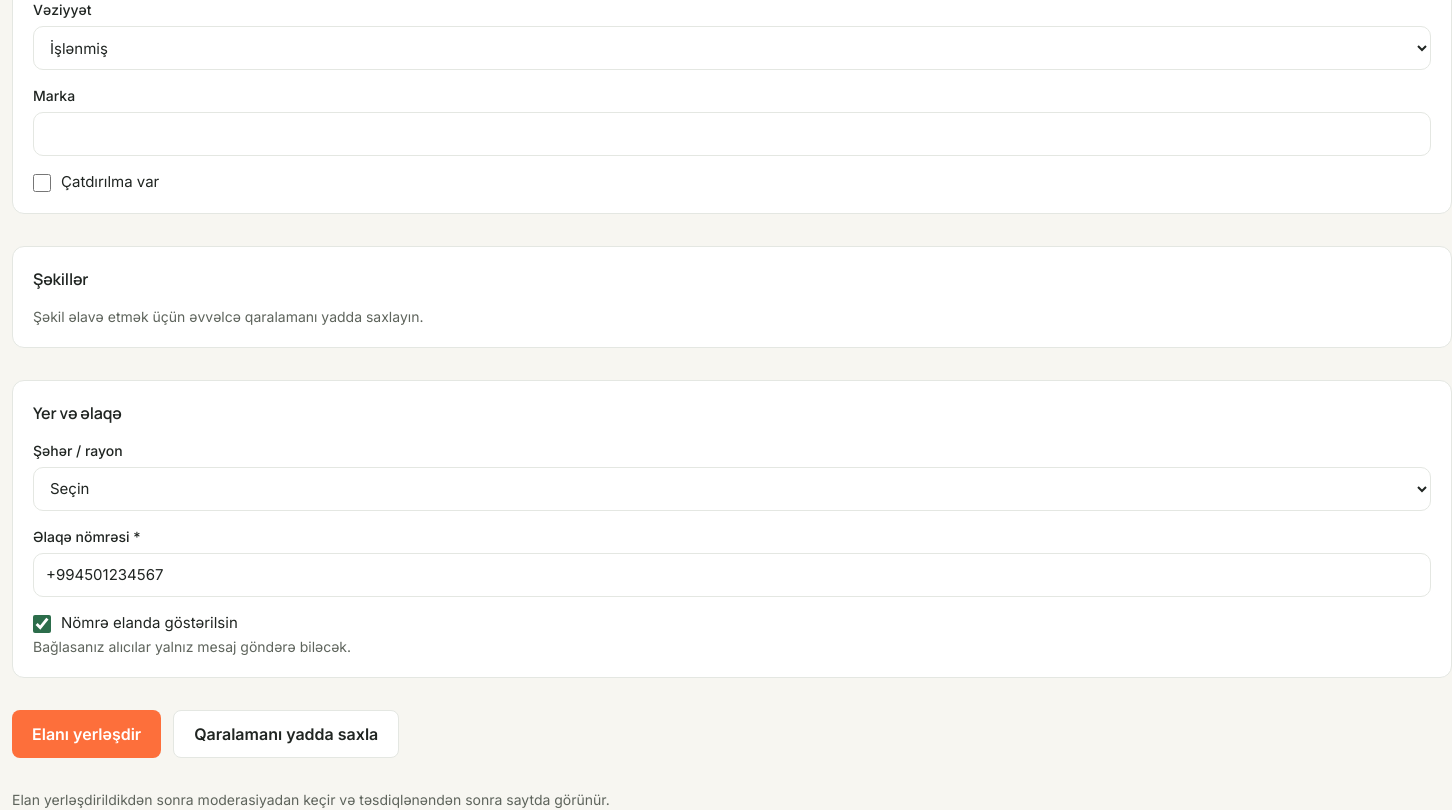
ListingForm › lands a region error on the location field
The width and height of the screenshot is (1452, 810).
(page scrolled)
Click the button "Qaralamanı yadda saxla".
click(286, 734)  # box [173,710,399,758]
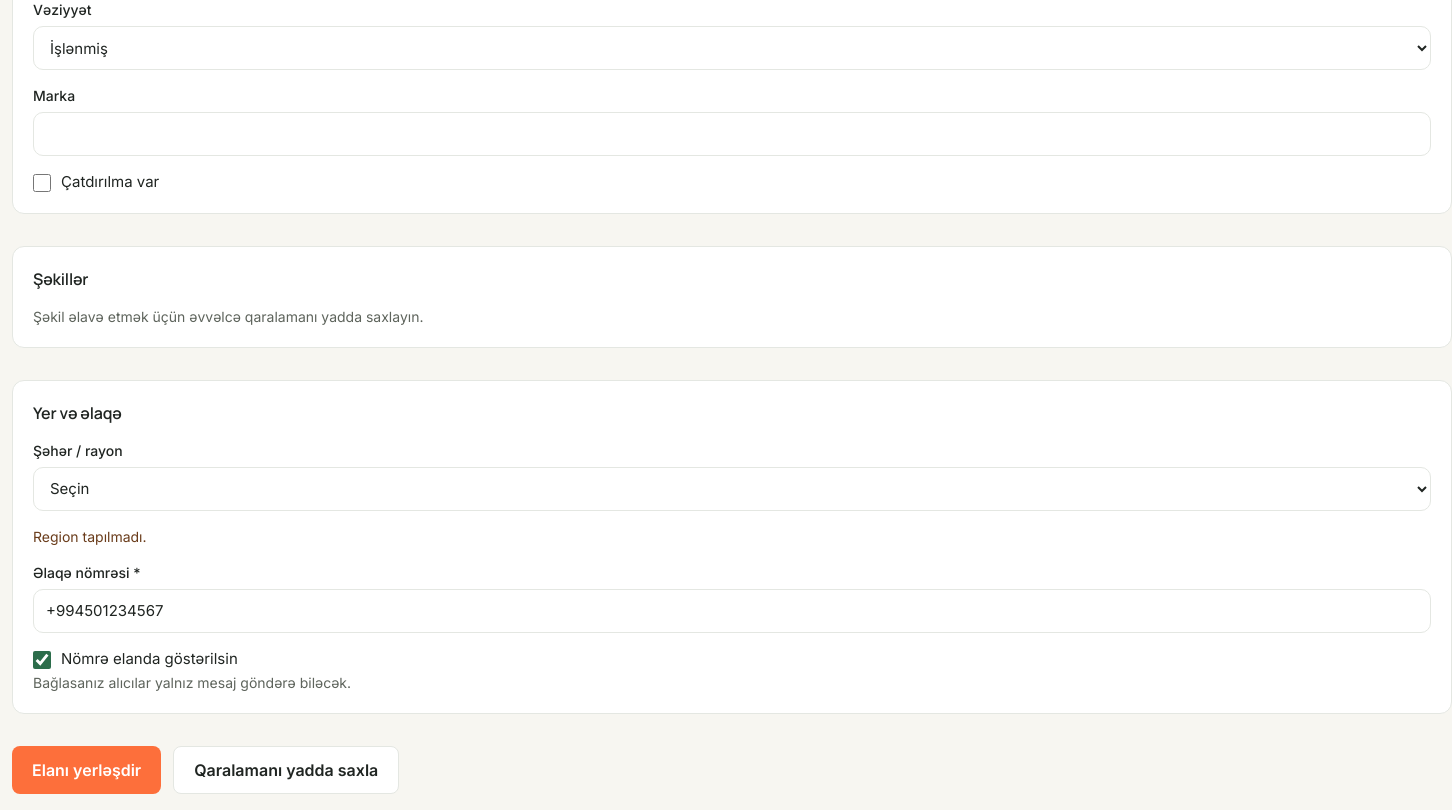
expect the text "Region tapılmadı." is shown: met, box [33,528,146,545]
